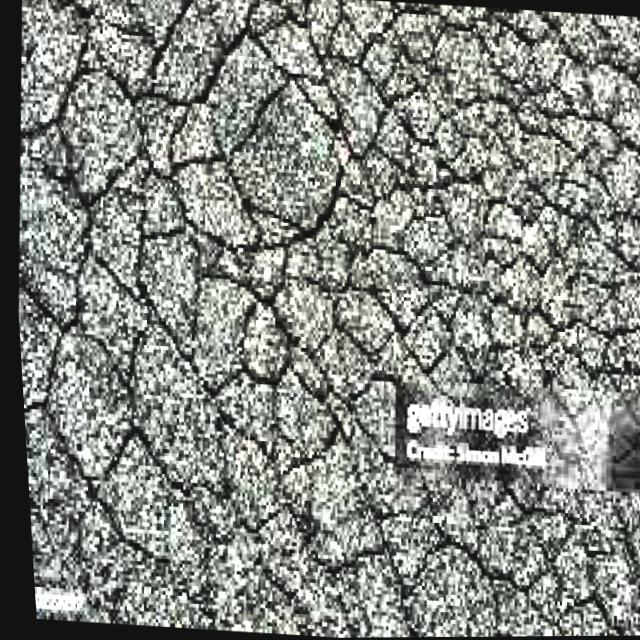Potholes: (22, 50, 640, 363)
